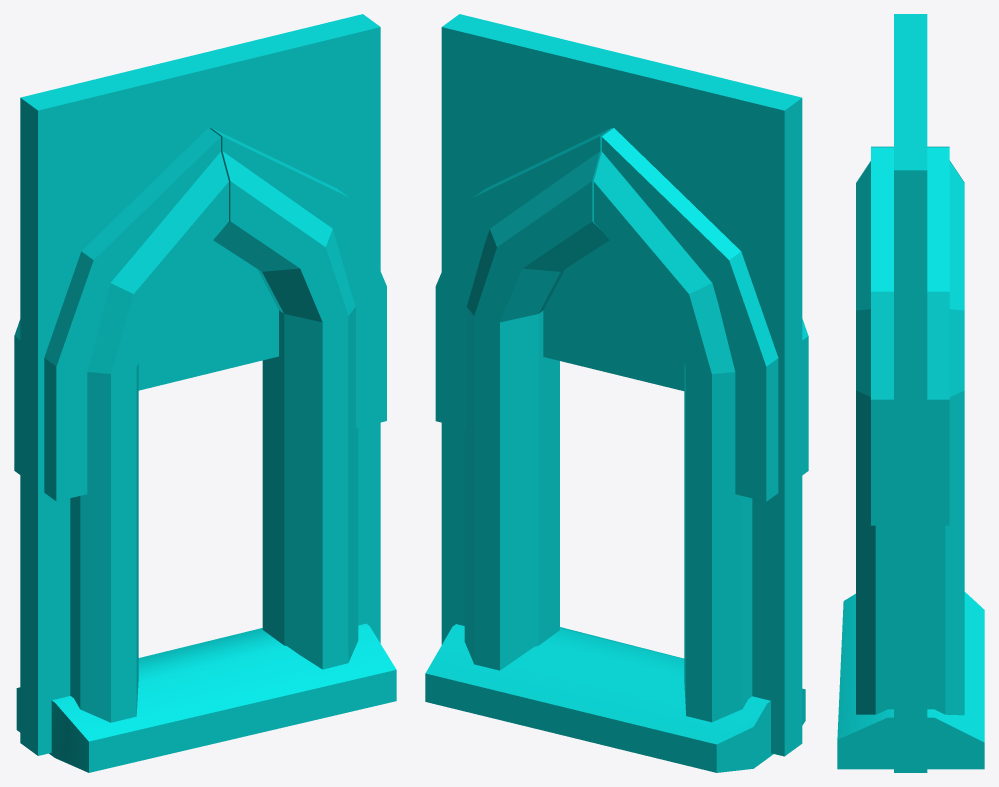
The model's file is SM_Bld_Wall_Door_02_Collision.fbx.
The picture shows the model from 3 angles, left to right: view 1: azimuth 30°, elevation 25°; view 2: azimuth 150°, elevation 25°; view 3: azimuth 270°, elevation 25°; orthographic projection. The views are drawn at different scales.
Visible parts, largest first — view 1: SM_Bld_Wall_Door_02_Collision; view 2: SM_Bld_Wall_Door_02_Collision; view 3: SM_Bld_Wall_Door_02_Collision.
Boxes of the visible parts, <box> form: SM_Bld_Wall_Door_02_Collision: <box>14,14,396,772</box>; SM_Bld_Wall_Door_02_Collision: <box>425,14,808,772</box>; SM_Bld_Wall_Door_02_Collision: <box>837,14,984,772</box>.
Bounding box in the file's own units: 250 × 452 × 99.63.
